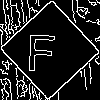F: (25, 25, 58, 73)
